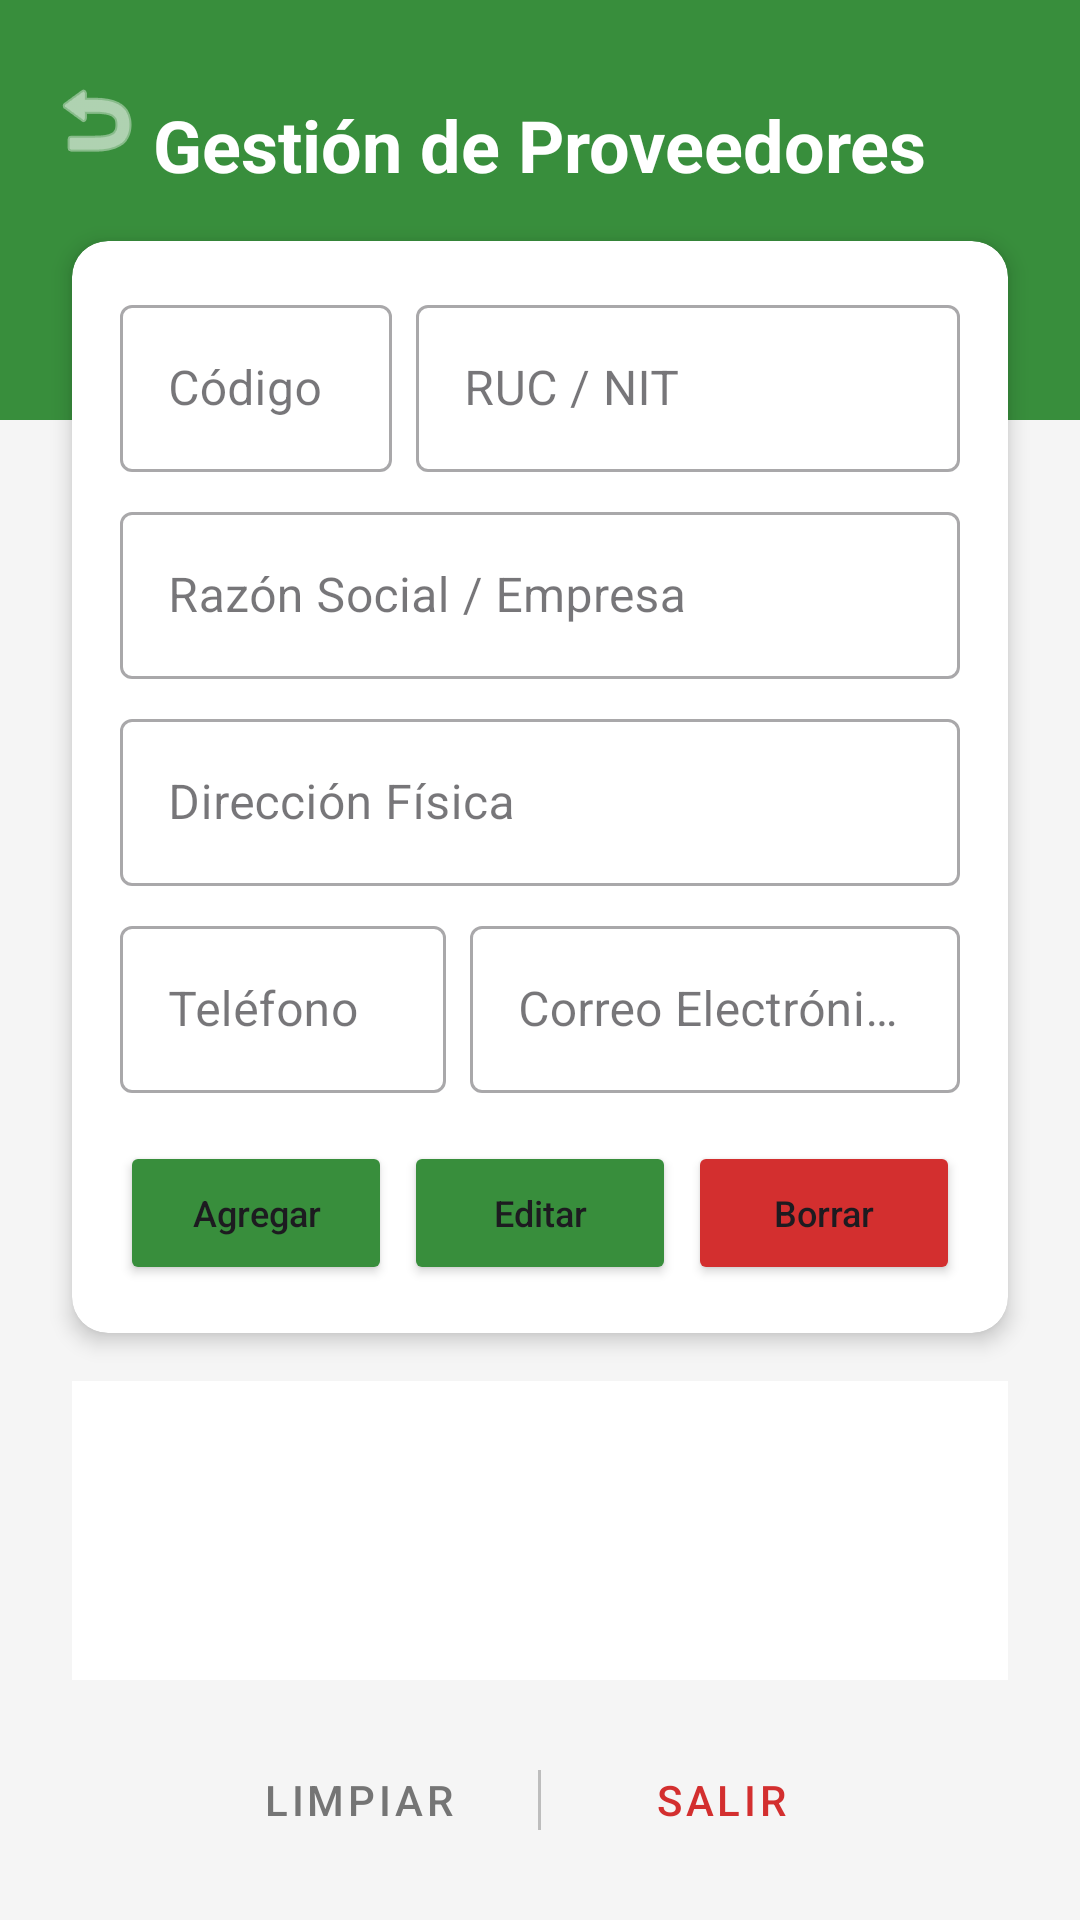

Where to tap for icons on this 1080*1920 app screen, as (x,y):
revert: (97,120)
